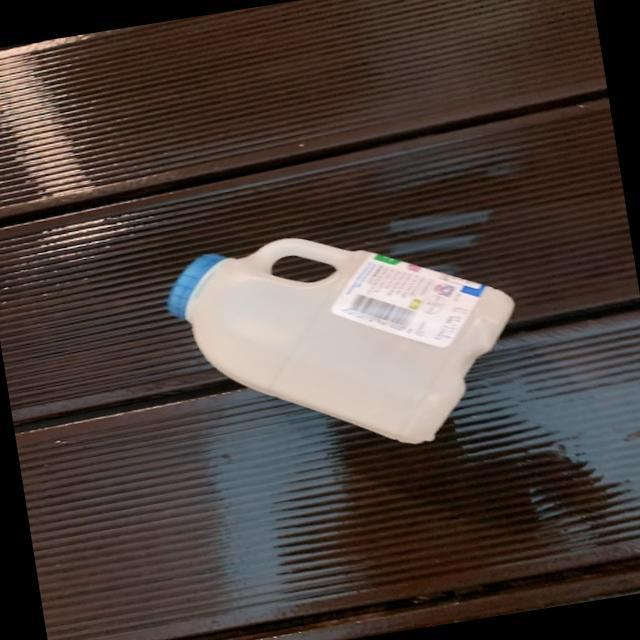HDPE Plastic: (162, 232, 520, 446)
